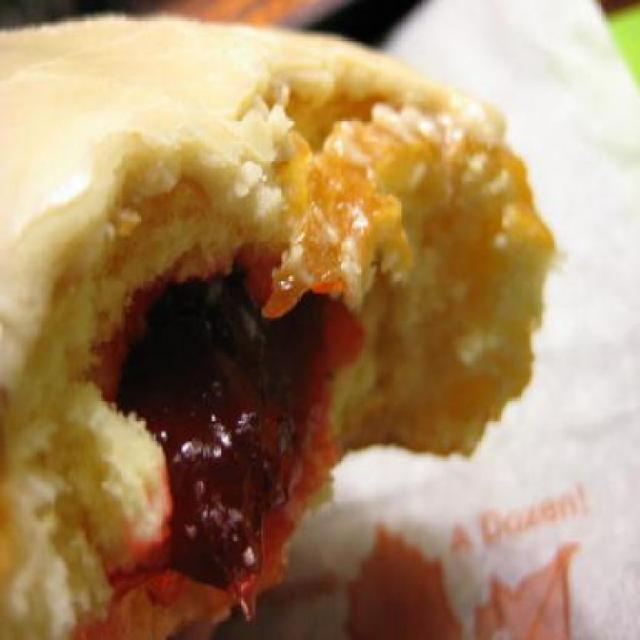Donuts: (1, 14, 560, 638)
